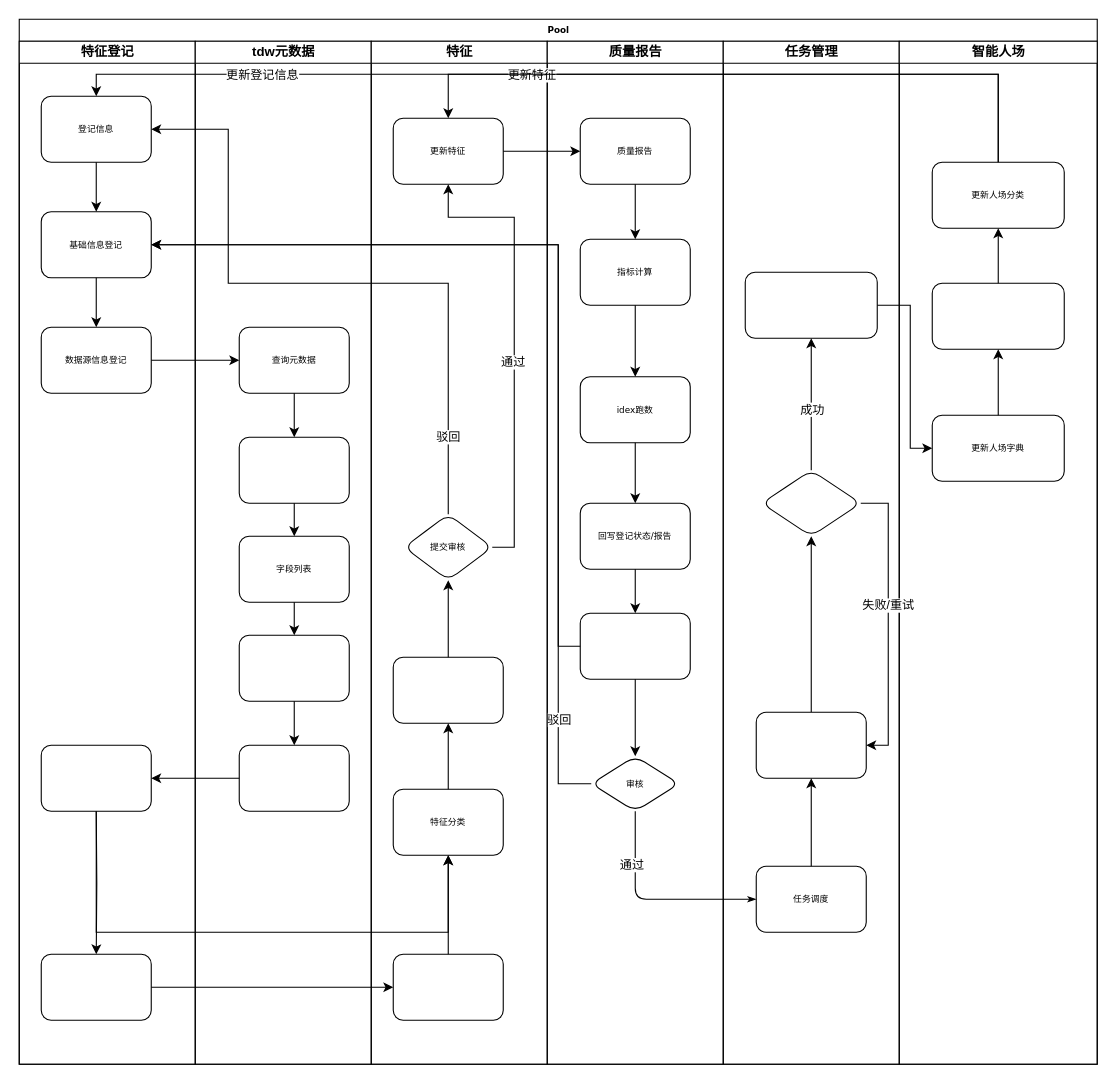
This 1117x1084 diagram has some shape labels left out. The centre of each missing label's shape, as x and y in pixels:
"任务状态" belongs at (811,502).
"修改信息" belongs at (634,645).
"启动任务" belongs at (810,744).
"库/表列表" belongs at (293,469).
"文件录入" belongs at (95,986).
"文件解析" belongs at (447,986).
"更新人场特征" belongs at (997,315).
"更新数据" belongs at (810,304).
"更新时间" belongs at (293,777).
"特征字典查询" belongs at (447,689).
"特征录入" belongs at (95,777).
"负责人" belongs at (293,667).
